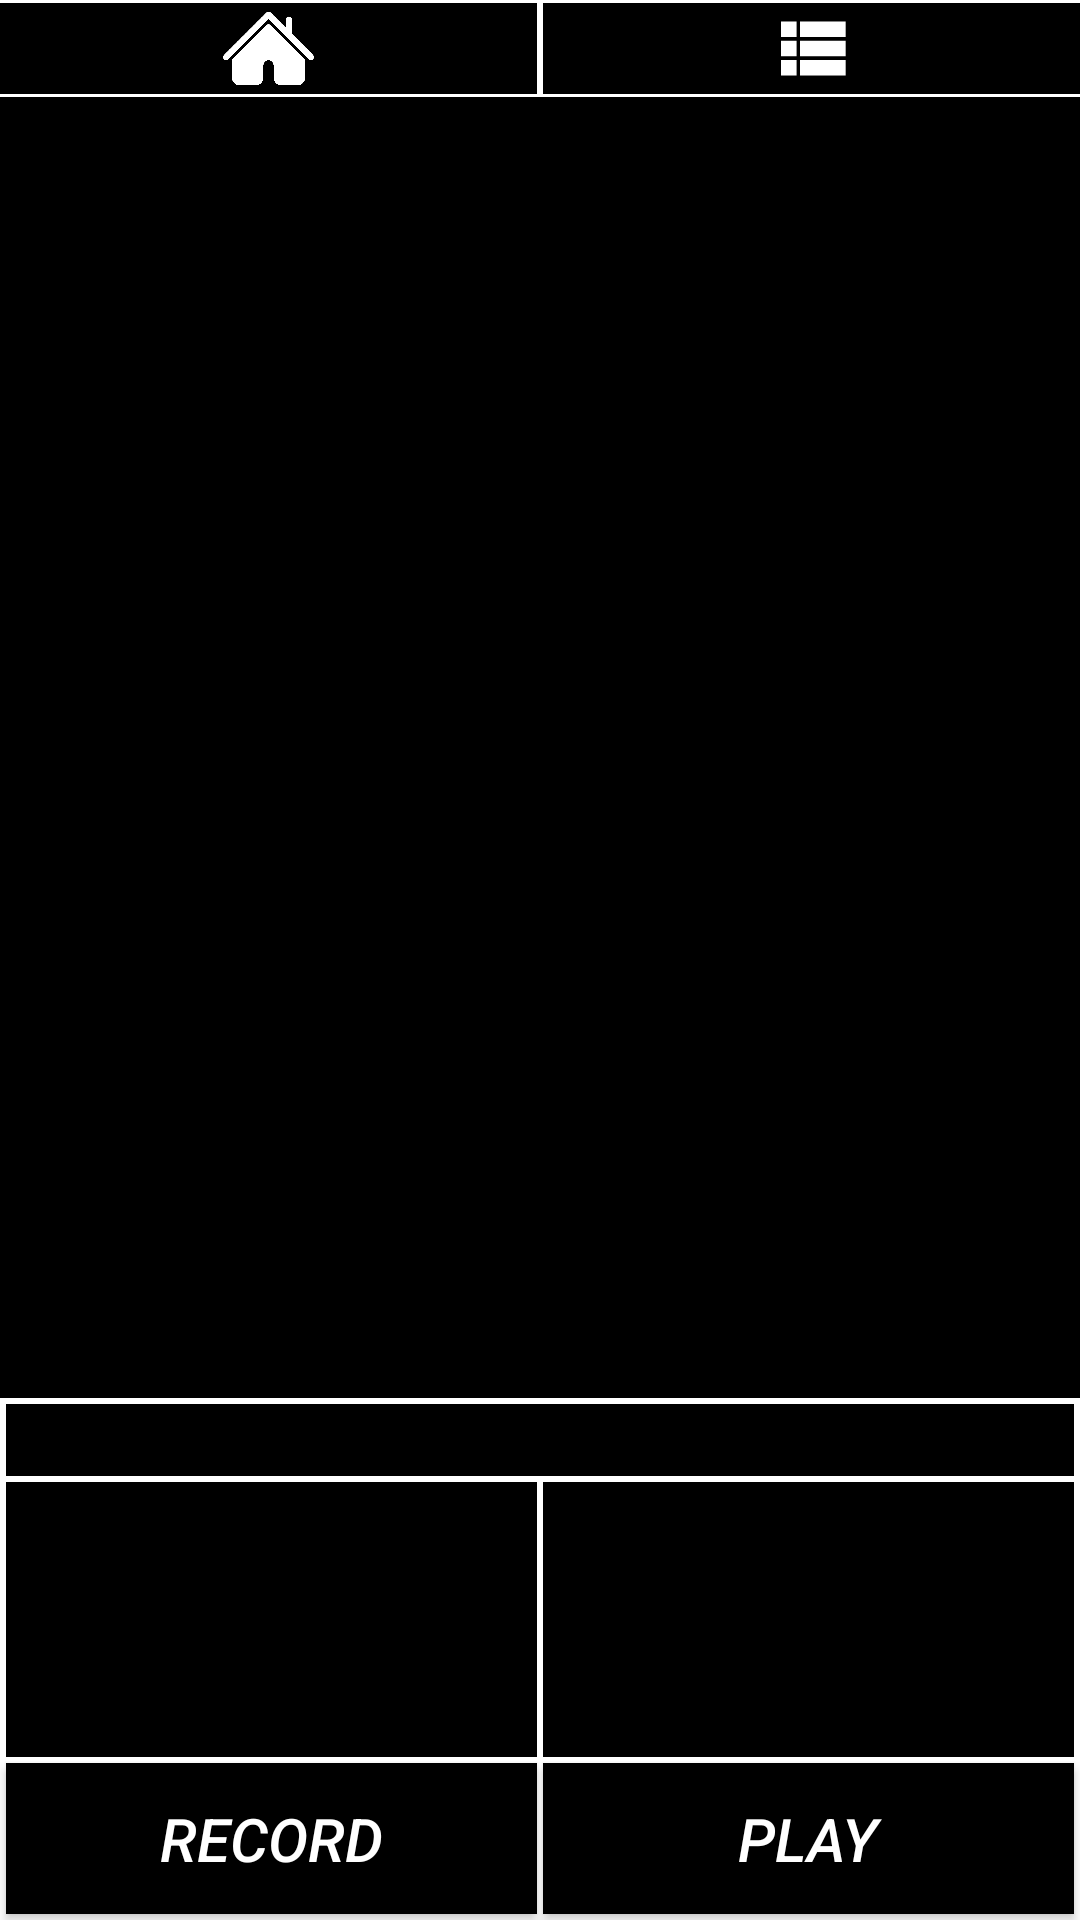

Screen size 1080px x 1920px. Icon name, then its center in pixels as point (x, y):
homebutton: point (268, 48)
listviewbutton: point (813, 48)
